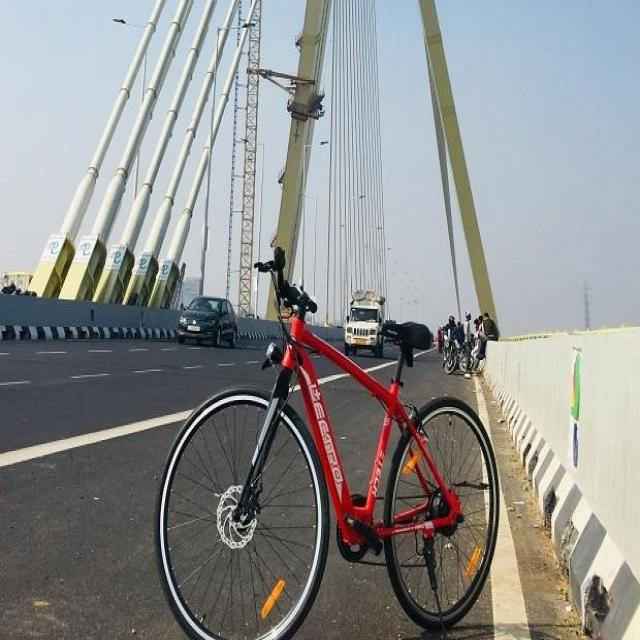bicycle: (155, 249, 499, 637)
car: (176, 296, 238, 347), (344, 291, 385, 357)
